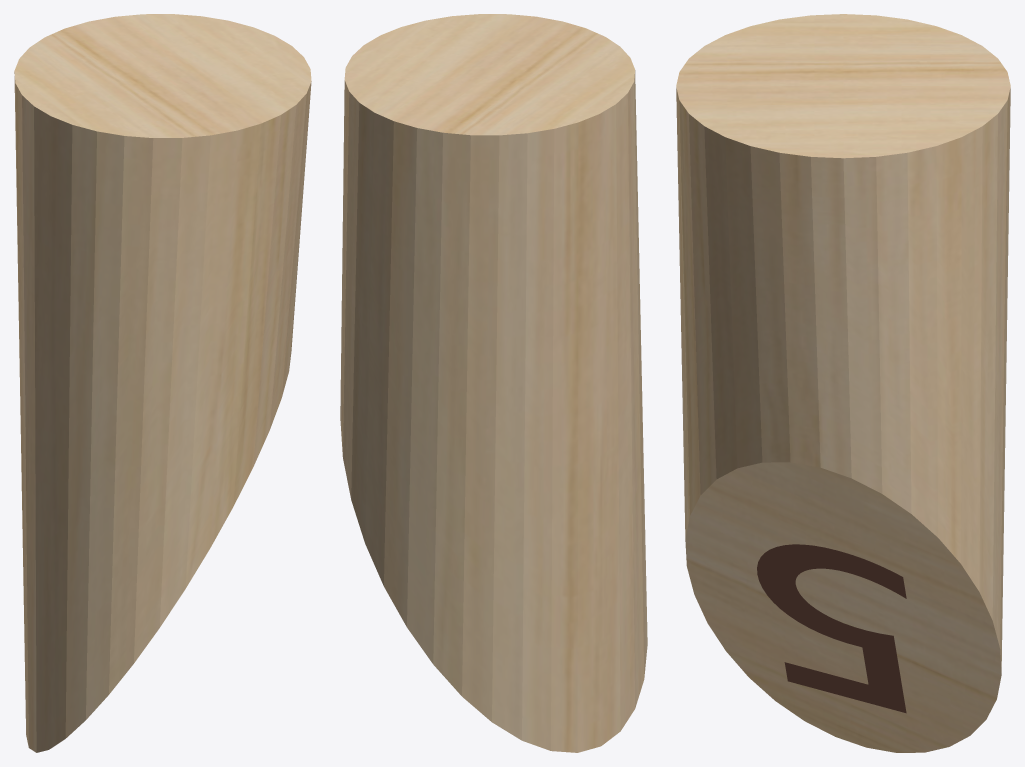
File: pin5.glb
The picture shows the model from 3 angles, left to right: view 1: azimuth 30°, elevation 25°; view 2: azimuth 150°, elevation 25°; view 3: azimuth 270°, elevation 25°; orthographic projection. The views are drawn at different scales.
Visible parts, largest first — view 1: 円柱.008; view 2: 円柱.008; view 3: 円柱.008.
Part boxes in pixels (<box>): 円柱.008: <box>14,14,311,752</box>; 円柱.008: <box>340,14,647,752</box>; 円柱.008: <box>676,14,1010,752</box>.
Bounding box in the file's own units: 1.17 × 2.79 × 1.16.
2 materials, 1 textured.
